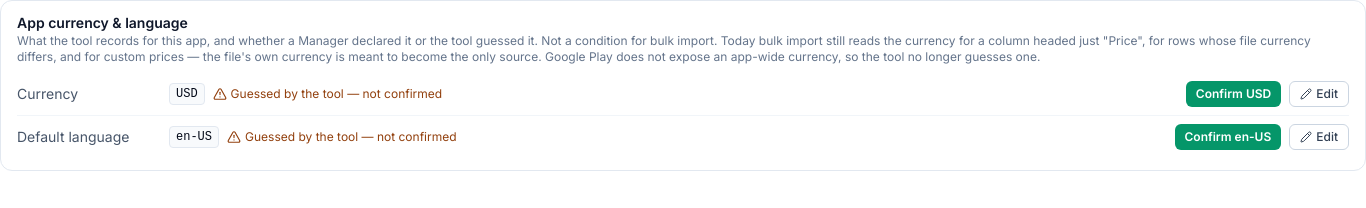
AppDefaultsCard — confirm / set › a refused save shows the server's error and keeps the previous state
This screenshot has width=1366, height=208.
Click the button "Confirm USD" at (1234,94), box 1186,81 -> 1281,107
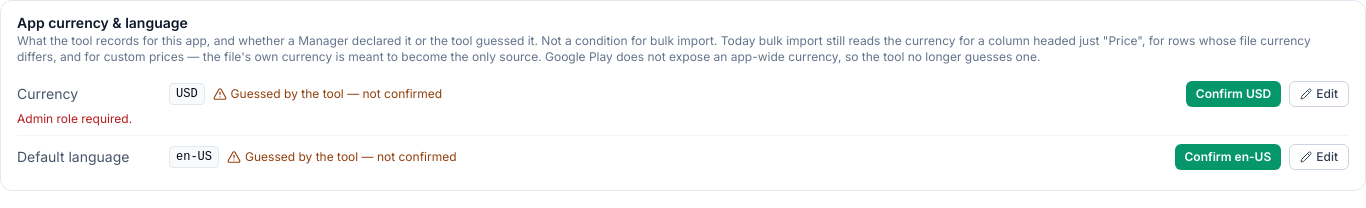
Expected: the text "Admin role required." is shown, 17,111 -> 132,126
